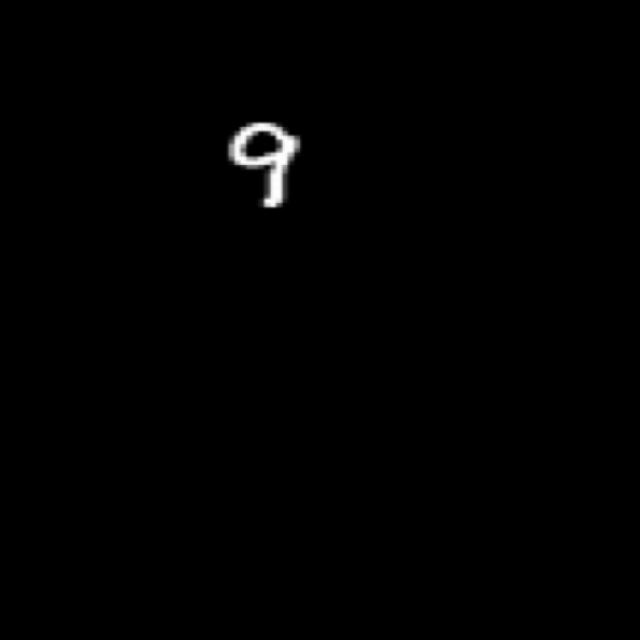nine -9-: (228, 114, 315, 217)
